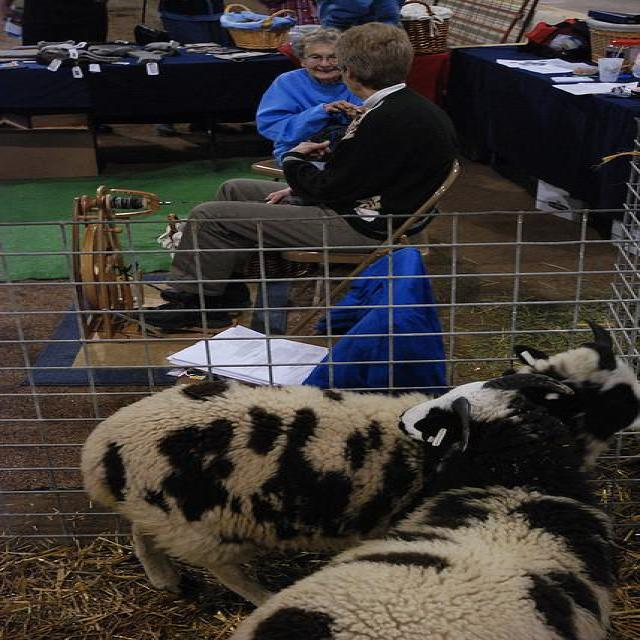Sheep: (74, 319, 638, 621), (220, 477, 629, 639)
